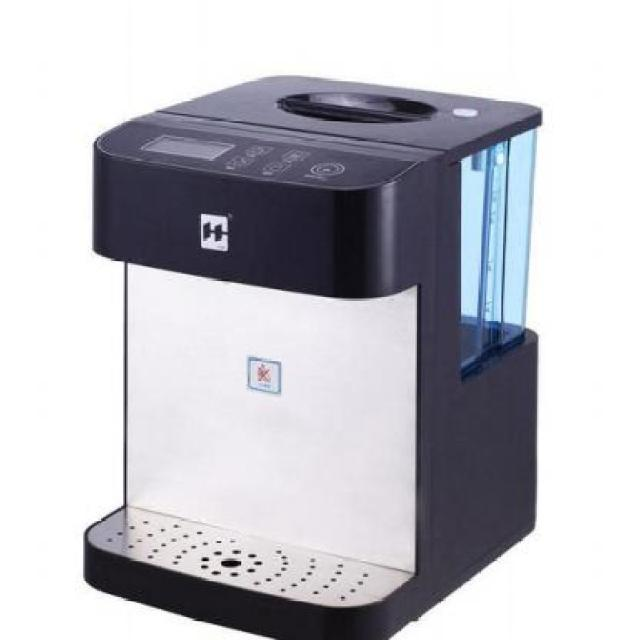cooler: (83, 71, 542, 640)
